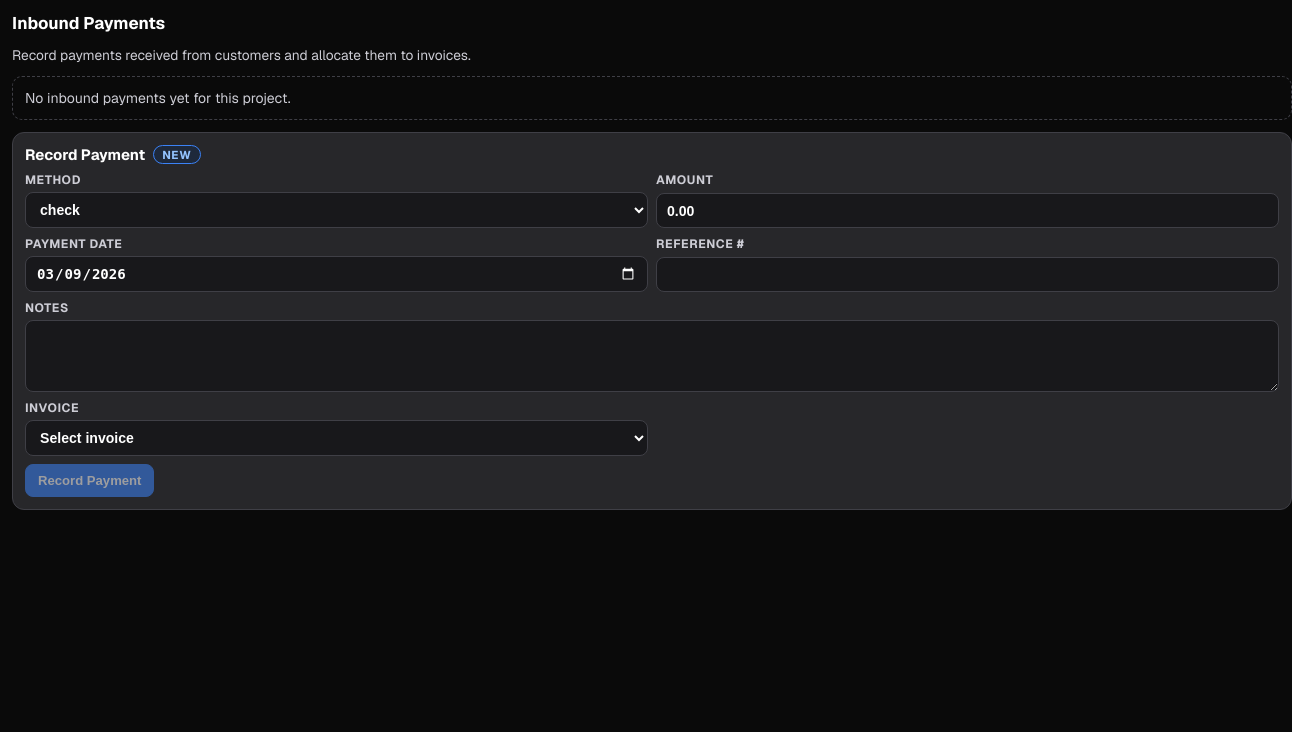
Test: PaymentRecorder › shows API error on create failure
Note: Select a target so submit is enabled
Select "Invoice #100 (due $5000.00)" in the 2nd dropdown named "Select invoice" at (336, 438), box [25,420,648,456]
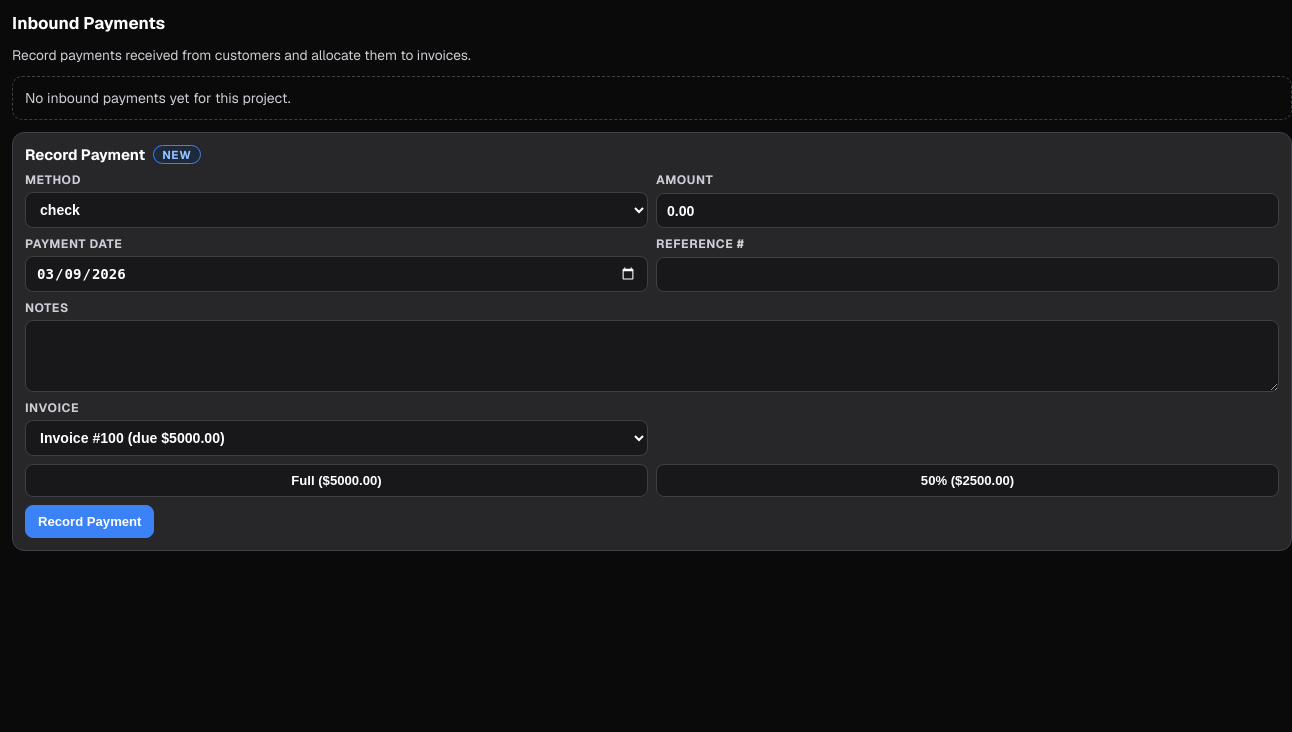
Click the button "Record Payment" at (90, 522), box [25,505,154,538]
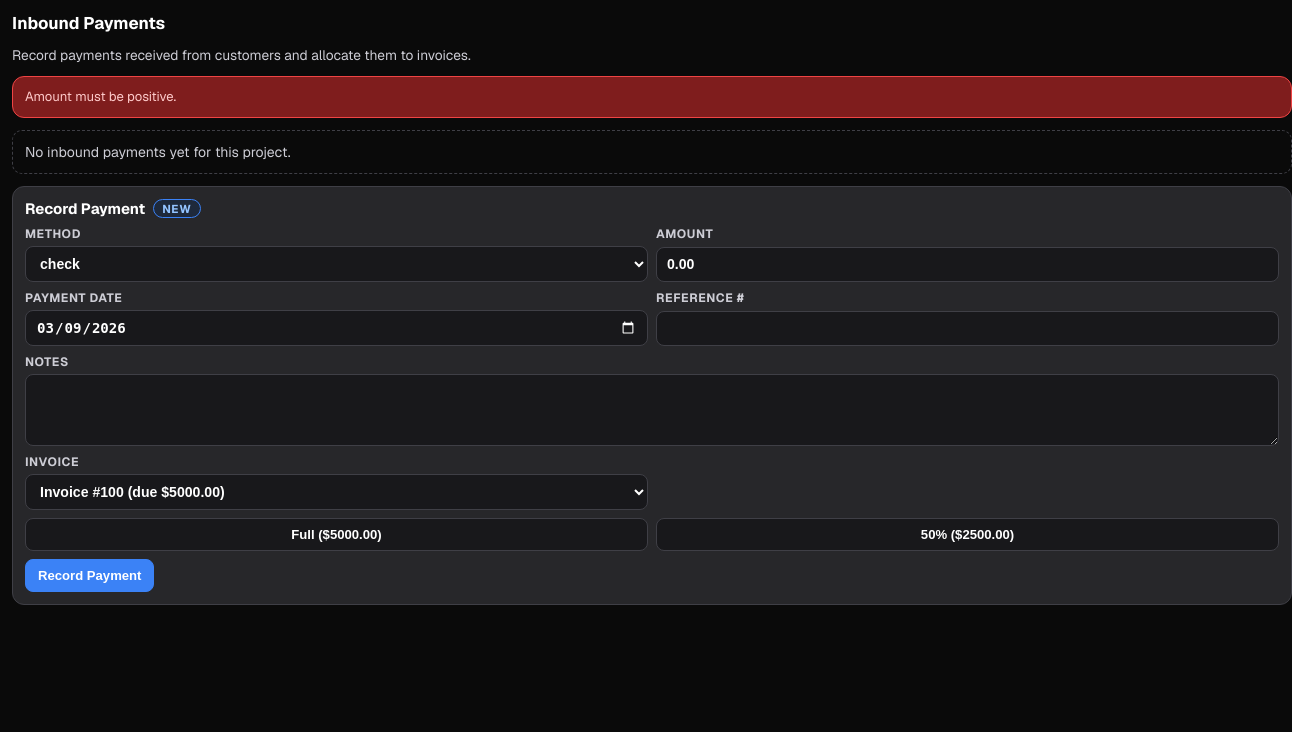
Now the text "Amount must be positive." is shown, box [12,76,1291,118]
